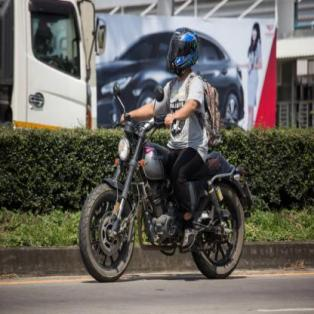Motocicleta: (75, 87, 254, 278)
